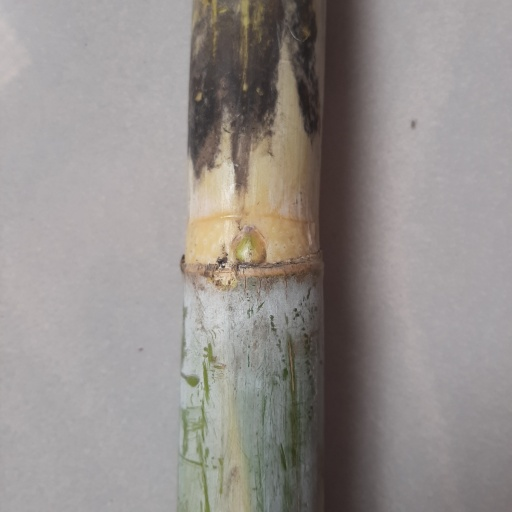Bud: (228, 224, 269, 267)
